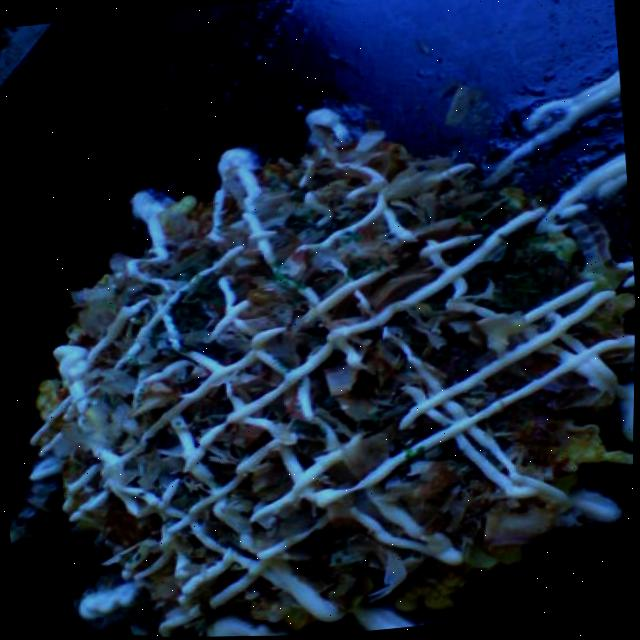蛋糕甜品: (23, 122, 638, 640)
